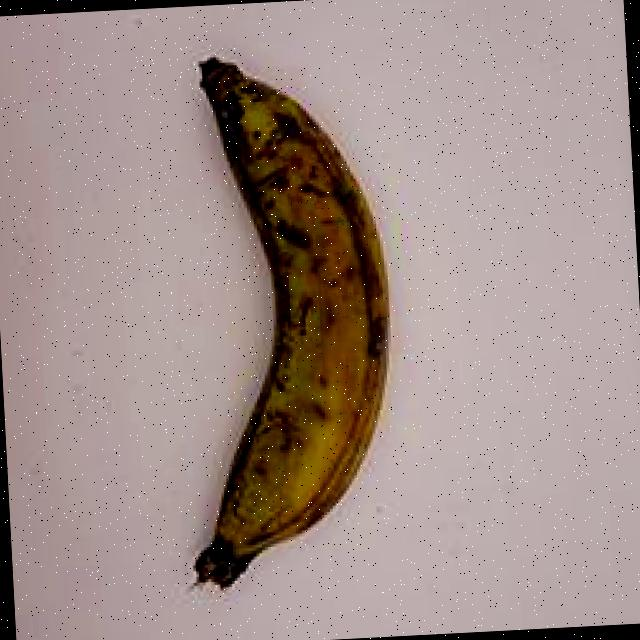Overripe: (115, 25, 442, 602)
